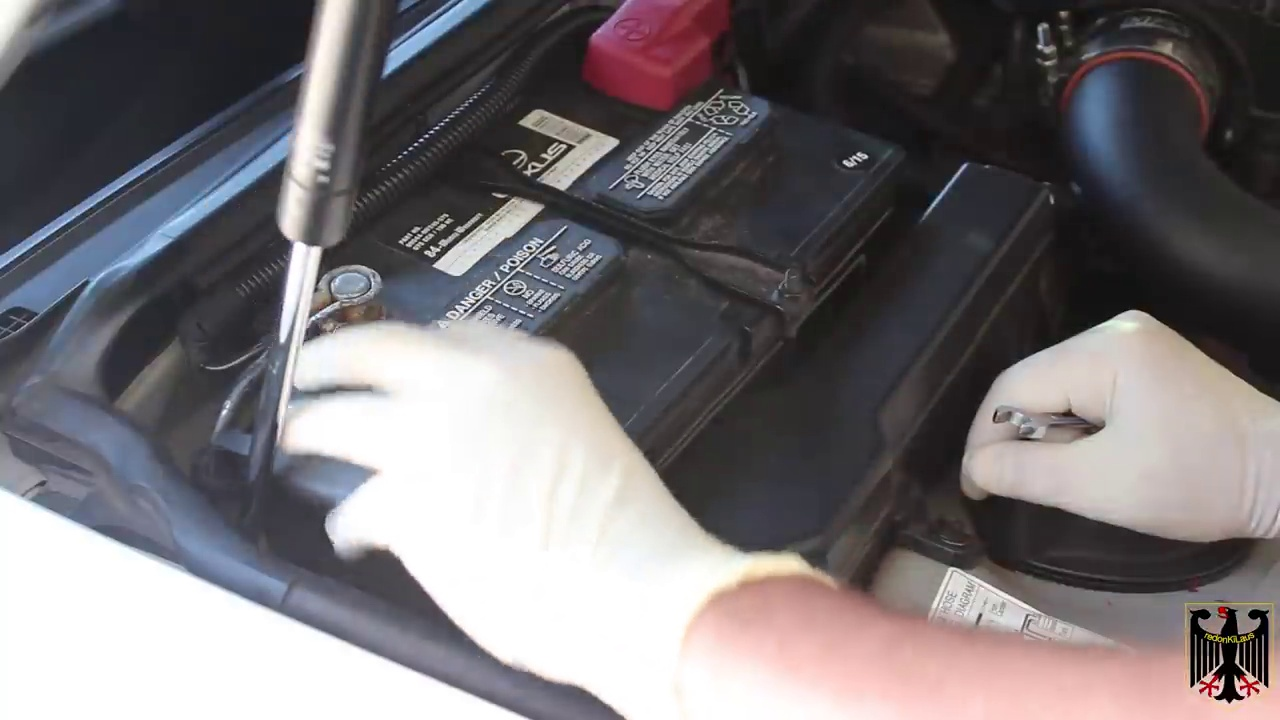battery: (291, 1, 912, 528)
neg_touched: (214, 244, 562, 565)
pos_connected: (563, 12, 812, 116)
